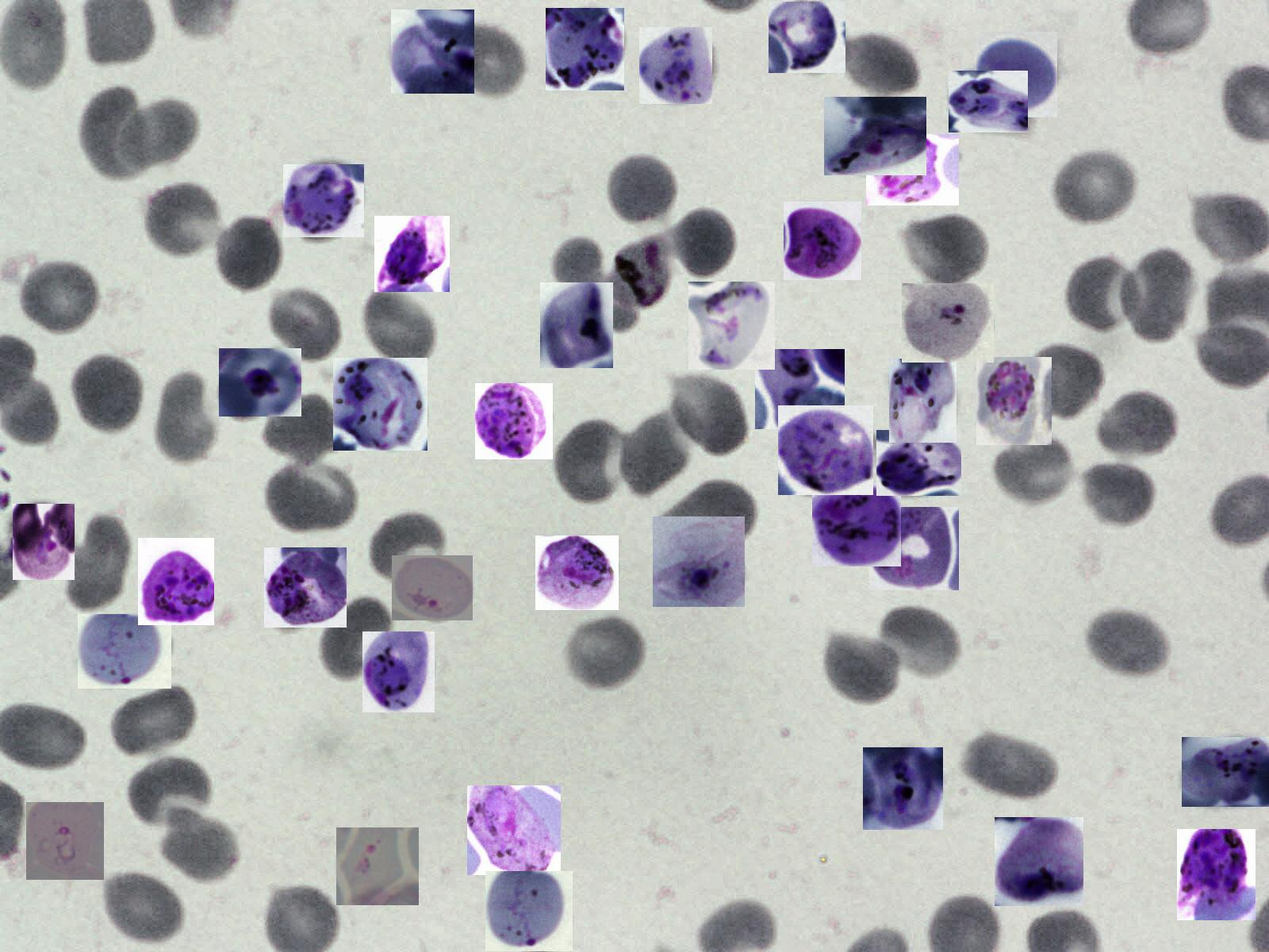Infected: (333, 358, 427, 451), (778, 405, 873, 495), (467, 785, 561, 875), (653, 516, 745, 607), (824, 97, 926, 175), (995, 817, 1083, 906), (688, 282, 775, 370), (812, 482, 901, 566), (869, 507, 959, 590), (902, 283, 994, 363), (755, 349, 845, 429), (1177, 829, 1256, 920), (485, 871, 573, 951), (78, 614, 171, 689), (391, 10, 474, 94), (975, 32, 1057, 117), (264, 547, 347, 628), (976, 357, 1052, 445), (863, 747, 943, 830), (138, 538, 214, 625), (866, 134, 959, 205), (336, 827, 419, 905), (546, 8, 624, 90), (540, 282, 613, 368), (535, 536, 619, 610), (1182, 737, 1269, 807), (26, 802, 104, 880), (784, 202, 861, 281), (475, 383, 553, 459), (283, 164, 364, 237), (362, 631, 435, 712), (374, 216, 450, 292), (889, 359, 957, 443), (640, 27, 713, 104), (876, 430, 961, 496), (219, 348, 301, 416), (769, 2, 845, 73), (392, 555, 473, 620), (613, 229, 676, 310), (949, 71, 1028, 132), (13, 504, 75, 580)
Uninfected: (550, 417, 634, 509), (958, 730, 1063, 803), (664, 372, 749, 458), (1050, 146, 1139, 228), (895, 213, 990, 289), (153, 363, 223, 465), (872, 605, 959, 686), (815, 627, 902, 708), (440, 17, 525, 99), (263, 464, 359, 536), (98, 866, 184, 946), (66, 349, 143, 438), (320, 596, 397, 685), (1062, 253, 1144, 336), (109, 685, 197, 762), (83, 83, 154, 178), (17, 257, 102, 336), (263, 282, 343, 365), (359, 286, 439, 369), (561, 614, 646, 692), (1023, 342, 1105, 420), (1084, 608, 1170, 682), (143, 182, 223, 261), (259, 393, 343, 468), (157, 809, 242, 882), (993, 432, 1074, 508), (1094, 390, 1179, 462), (212, 214, 286, 296), (1121, 251, 1190, 338), (1075, 460, 1155, 534), (116, 102, 203, 169), (128, 758, 212, 827), (839, 33, 922, 102), (605, 152, 680, 228), (1191, 194, 1269, 267), (366, 511, 448, 580), (621, 411, 688, 495), (67, 517, 128, 608), (667, 481, 756, 539), (549, 238, 612, 319), (663, 208, 737, 274)
